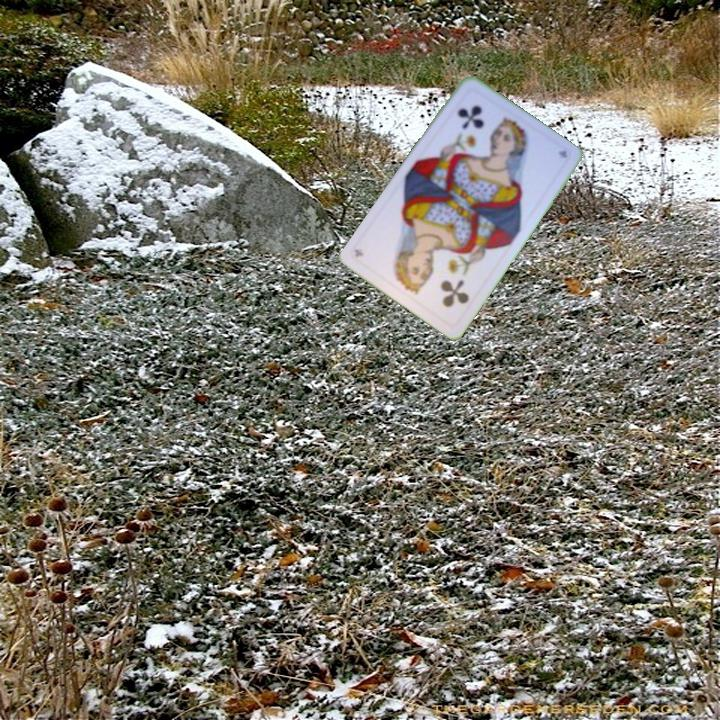c_q.png: (436, 84, 522, 168), (400, 245, 486, 329)
